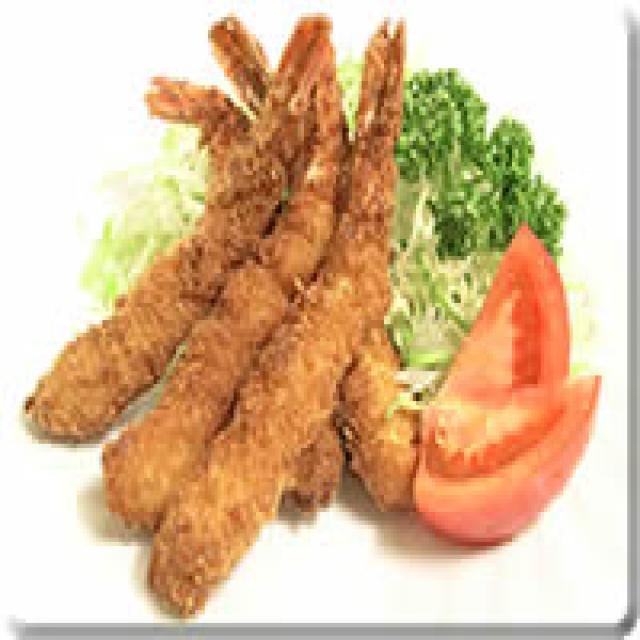炸货点心: (0, 0, 454, 618)
熟制海鲜: (0, 0, 454, 618)
